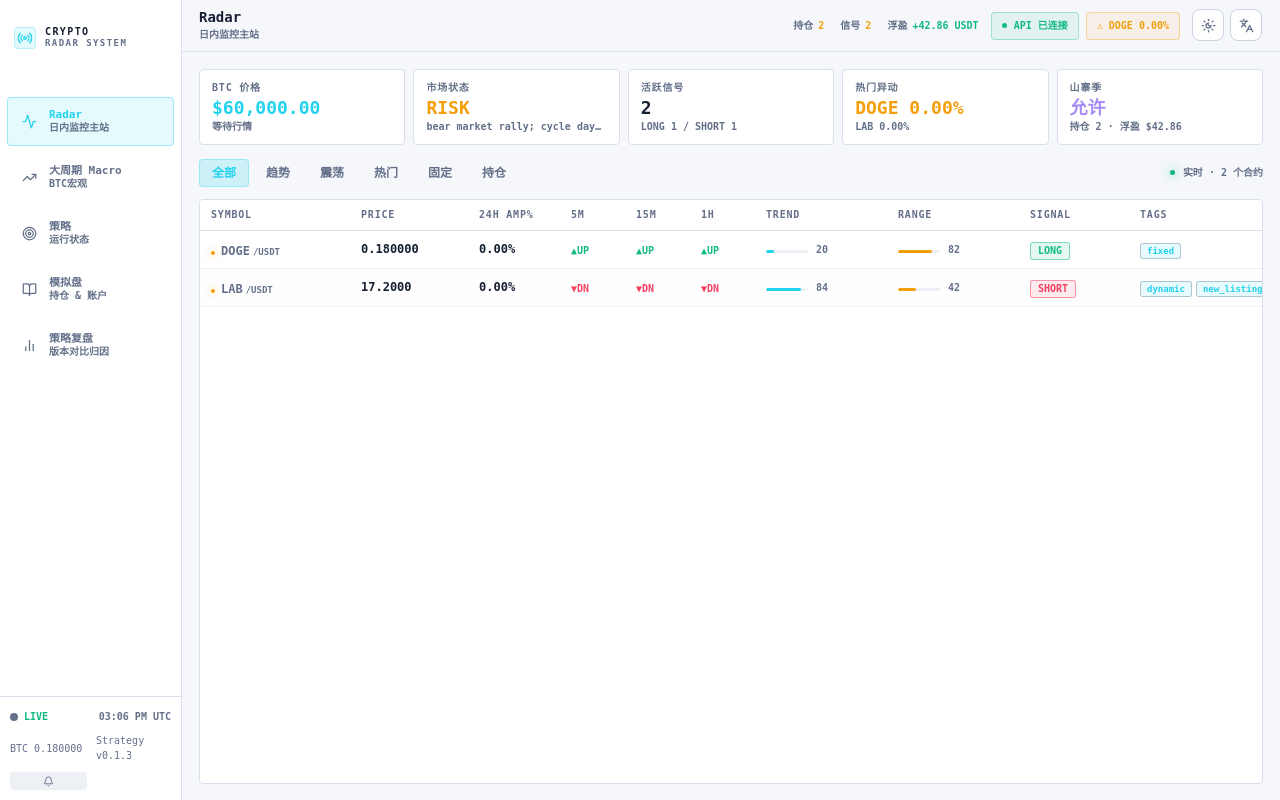
Test case: App › shows all current positions on the Trade page and preloads the selected Monitor symbol
Click the row named "DOGE-USDT-SWAP" at (731,250), box [200,231,1262,269]
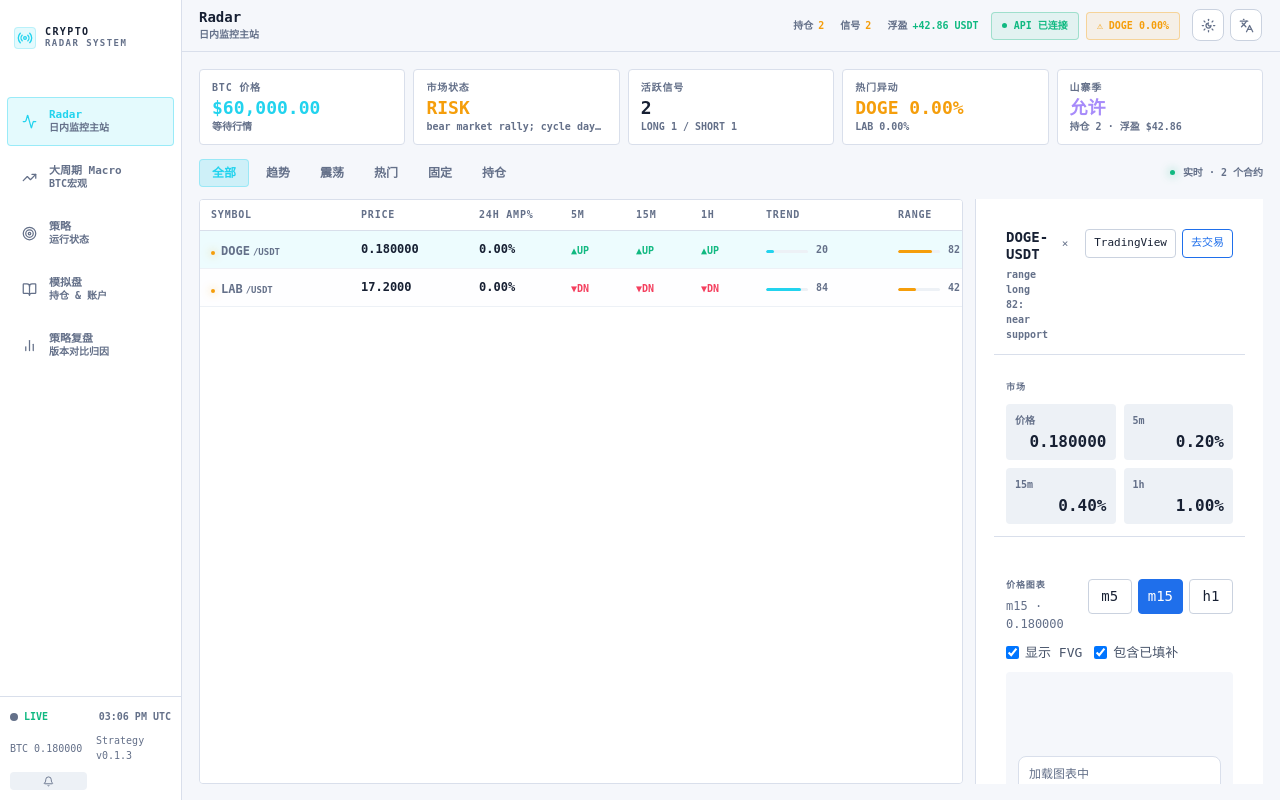
Click the button "去交易" at (1208,243), box [1182,229,1233,257]
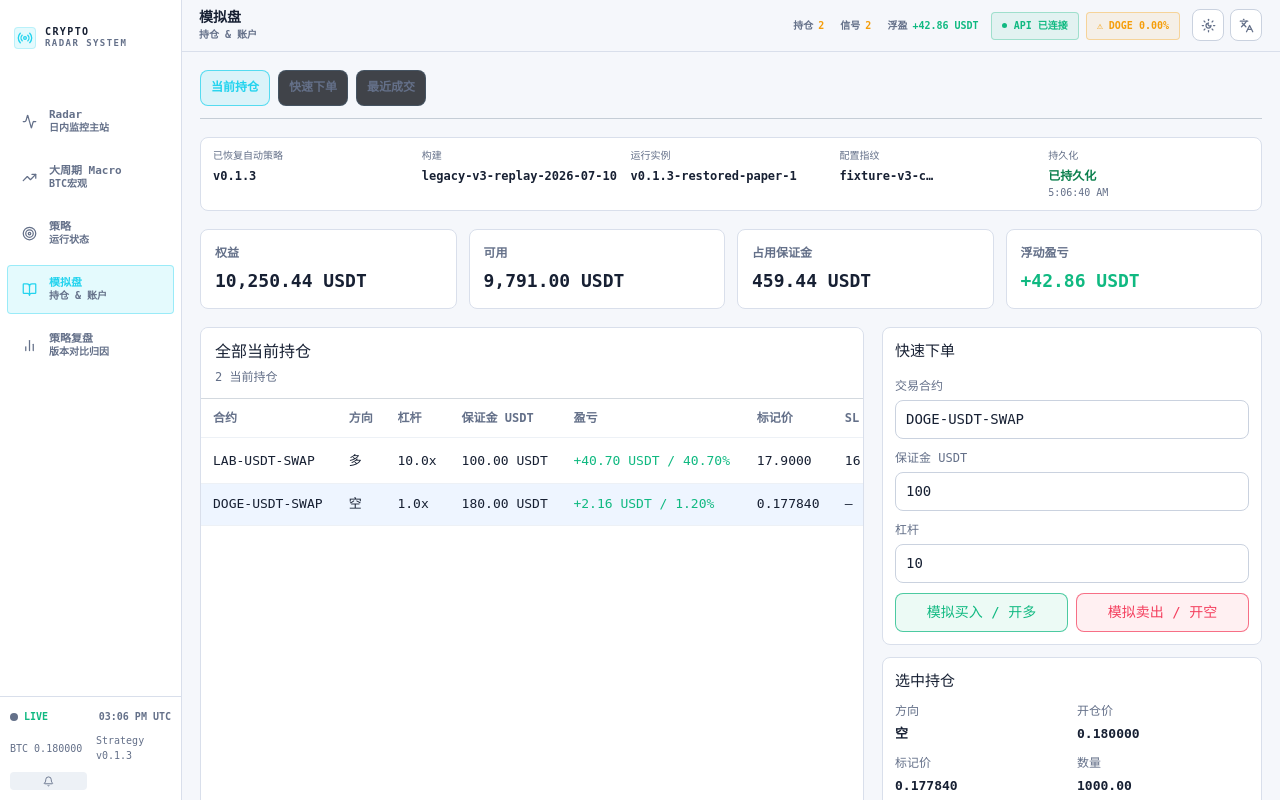
Expected: the heading "模拟盘" is shown, [199,9,241,25]
Expected: the element with test id "trade-page" shows "LAB-USDT-SWAP", [213,452,315,468]
Expected: the element with test id "trade-page" shows "DOGE-USDT-SWAP", [213,496,323,511]
